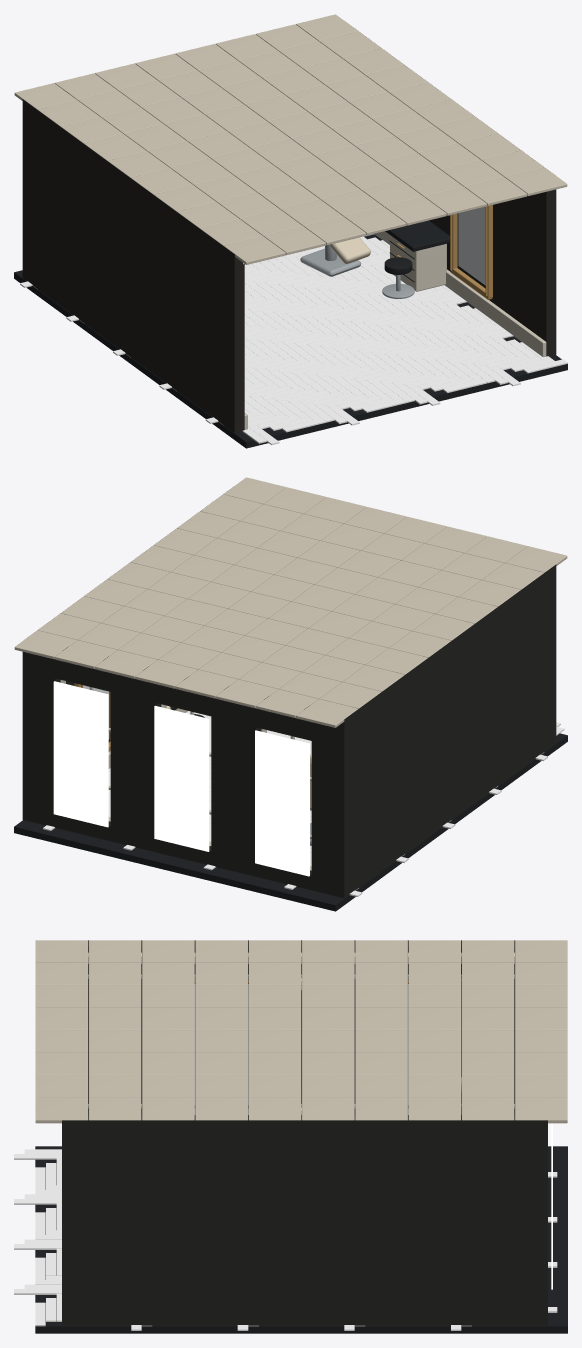
3 renders of one model, top to bottom at view 1: azimuth 30°, elevation 25°; view 2: azimuth 150°, elevation 25°; view 3: azimuth 270°, elevation 25°, orthographic. The views are drawn at different scales.
Parts seen in each view (by area): view 1: Left charcoal wall, Right charcoal wall, Subfloor, Skirting.001, Ivory drawer cabinet.001, Mirror.002, Black workstation.001, Ceiling panel, Ceiling panel.020, Ceiling panel.030, Ceiling panel.070, Ceiling panel.010 (+79 smaller); view 2: Left charcoal wall, Window daylight.001, Window daylight.002, Rear wall pier.001, Window daylight, Rear wall pier.002, Subfloor, Rear lintel, Rear wall pier, Rear wall pier.003, Rear sill wall, Ceiling panel.009 (+79 smaller); view 3: Right charcoal wall, Subfloor, Rear wall pier.003, Ceiling panel.070, Ceiling panel.079, Ceiling panel.014, Ceiling panel.034, Ceiling panel.054, Ceiling panel.058, Ceiling panel, Ceiling panel.004, Ceiling panel.008 (+72 smaller).
Boxes of the visible parts, x1,y1,x2,y2 form: Left charcoal wall: (25, 102, 244, 433); Right charcoal wall: (429, 189, 556, 356); Subfloor: (14, 234, 567, 448); Skirting.001: (374, 231, 546, 356); Ivory drawer cabinet.001: (390, 235, 446, 291); Mirror.002: (458, 206, 485, 285); Black workstation.001: (385, 220, 449, 251); Ceiling panel: (224, 236, 285, 264); Ceiling panel.020: (304, 216, 366, 245); Ceiling panel.030: (344, 206, 406, 235); Ceiling panel.070: (505, 167, 567, 196); Ceiling panel.010: (263, 226, 325, 254); Left charcoal wall: (347, 564, 556, 892); Window daylight.001: (154, 705, 209, 851); Window daylight.002: (53, 681, 108, 827); Rear wall pier.001: (211, 686, 261, 876); Window daylight: (255, 730, 309, 876); Rear wall pier.002: (110, 666, 160, 851); Subfloor: (14, 733, 567, 911); Rear lintel: (22, 647, 350, 748); Rear wall pier: (311, 717, 350, 897); Rear wall pier.003: (22, 653, 60, 826); Rear sill wall: (22, 805, 350, 898); Ceiling panel.009: (296, 699, 357, 727); Right charcoal wall: (62, 1115, 540, 1325); Subfloor: (35, 1146, 567, 1333); Rear wall pier.003: (534, 1120, 547, 1325); Ceiling panel.070: (35, 1098, 88, 1123); Ceiling panel.079: (515, 1098, 567, 1123); Ceiling panel.014: (248, 963, 301, 985); Ceiling panel.034: (248, 1008, 301, 1030); Ceiling panel.054: (248, 1053, 301, 1075); Ceiling panel.058: (461, 1053, 514, 1075); Ceiling panel: (35, 940, 88, 962); Ceiling panel.004: (248, 940, 301, 962); Ceiling panel.008: (461, 940, 514, 962).
Bounding box in the file's own units: 6.72 × 3.54 × 8.32.
